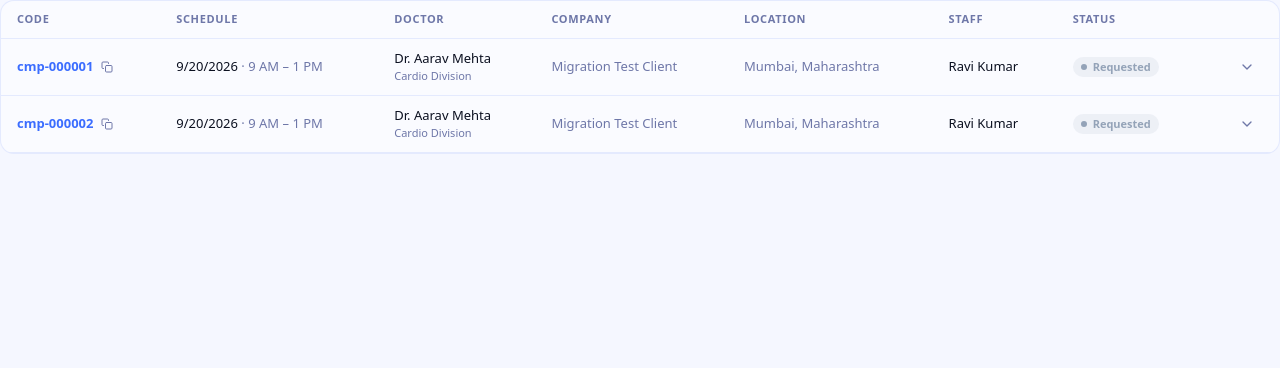
Test: CampTableReal › expand/collapse detail panel › only expands one row at a time
Click the button named "Expand details for cmp-000001" at (1247, 66), box [1231,50,1263,82]
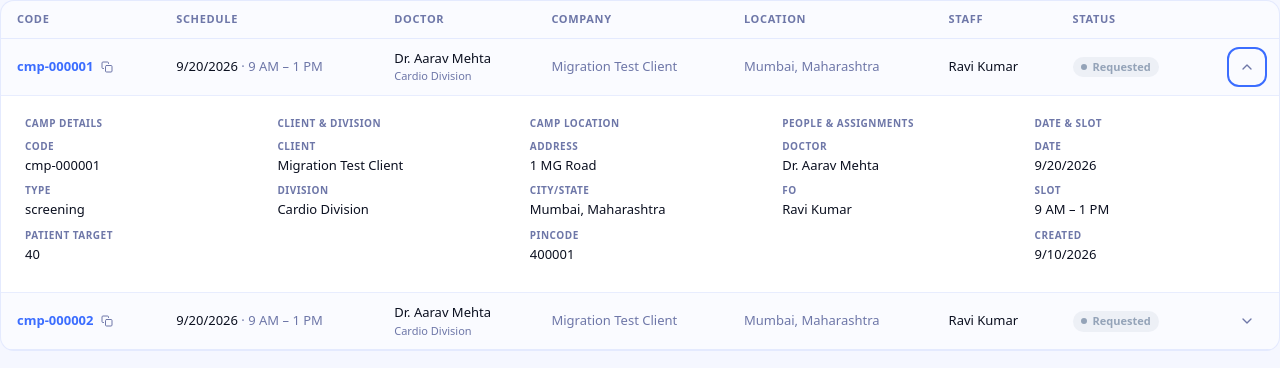
Check: the button named "Collapse details for cmp-000001" is shown, box [1231,50,1263,82]
Click the button named "Expand details for cmp-000002" at (1247, 321), box [1231,305,1263,337]
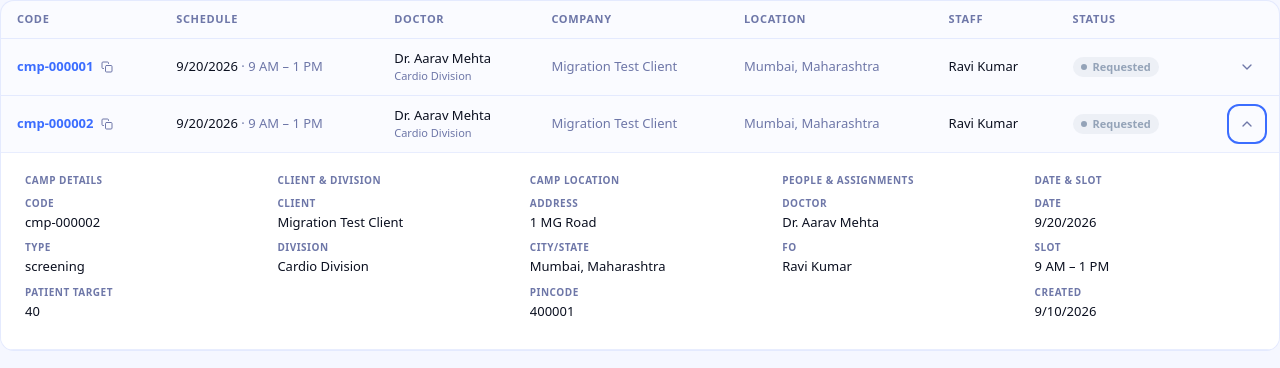
Check: the button named "Expand details for cmp-000001" is shown, box [1231,50,1263,82]
Check: the button named "Collapse details for cmp-000002" is shown, box [1231,108,1263,140]
